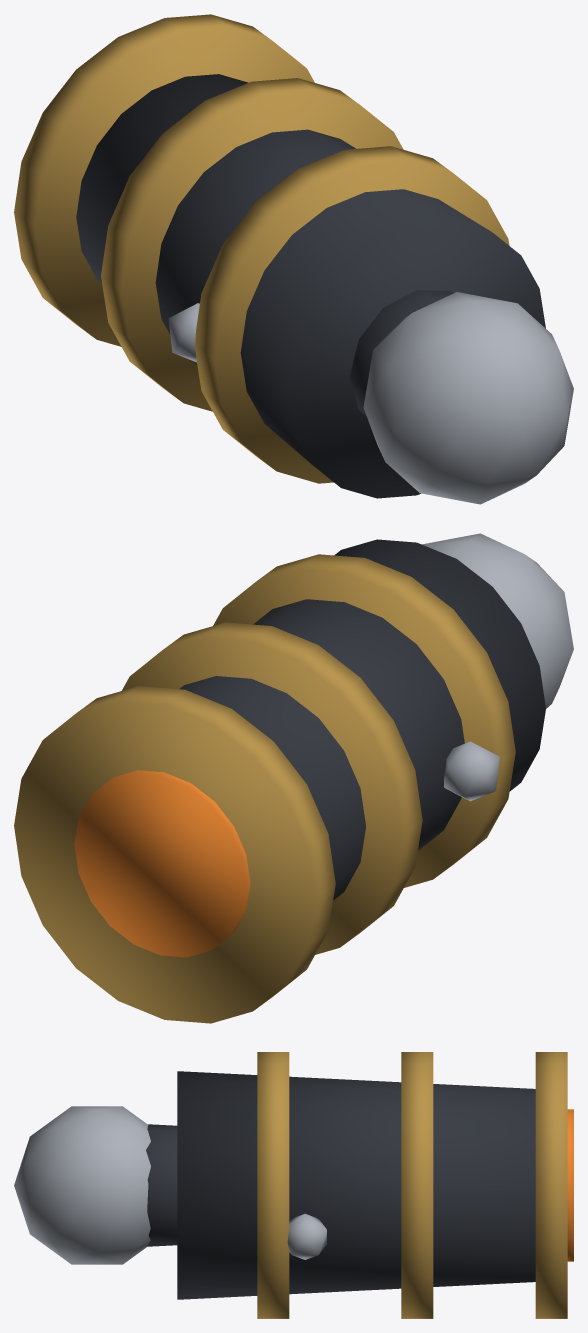
File: prime_cannon.glb
The picture shows the model from 3 angles, top to bottom: view 1: azimuth 30°, elevation 25°; view 2: azimuth 150°, elevation 25°; view 3: azimuth 270°, elevation 25°; orthographic projection. The views are drawn at different scales.
Parts seen in each view (by area): view 1: prime_cannon; view 2: prime_cannon; view 3: prime_cannon.
Part boxes in pixels (x1,y1,x2,y2): prime_cannon: [14, 14, 573, 504]; prime_cannon: [14, 533, 573, 1023]; prime_cannon: [14, 1052, 573, 1318].
Size of the model in its own units: 0.9031 by 0.84 by 1.75.
